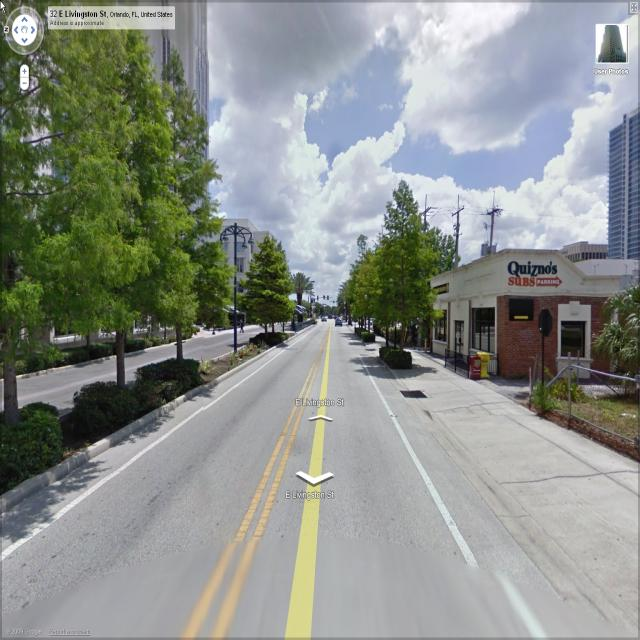b_1: (430, 240, 596, 384), (607, 97, 640, 254)
b_2: (59, 1, 231, 310), (195, 215, 280, 322)
